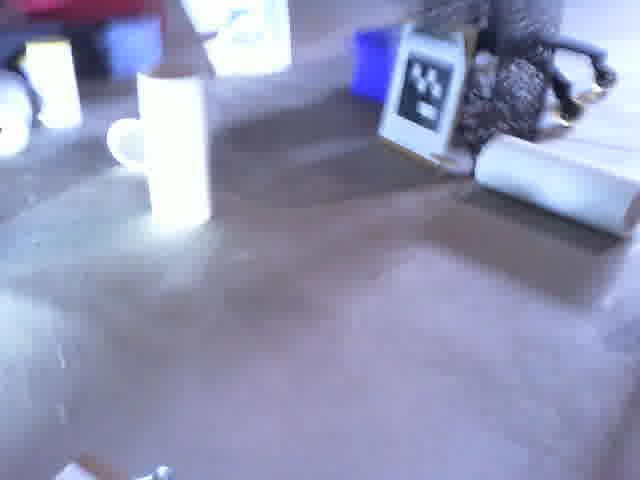coral: (469, 132, 640, 244), (137, 67, 222, 235), (100, 105, 150, 181)
